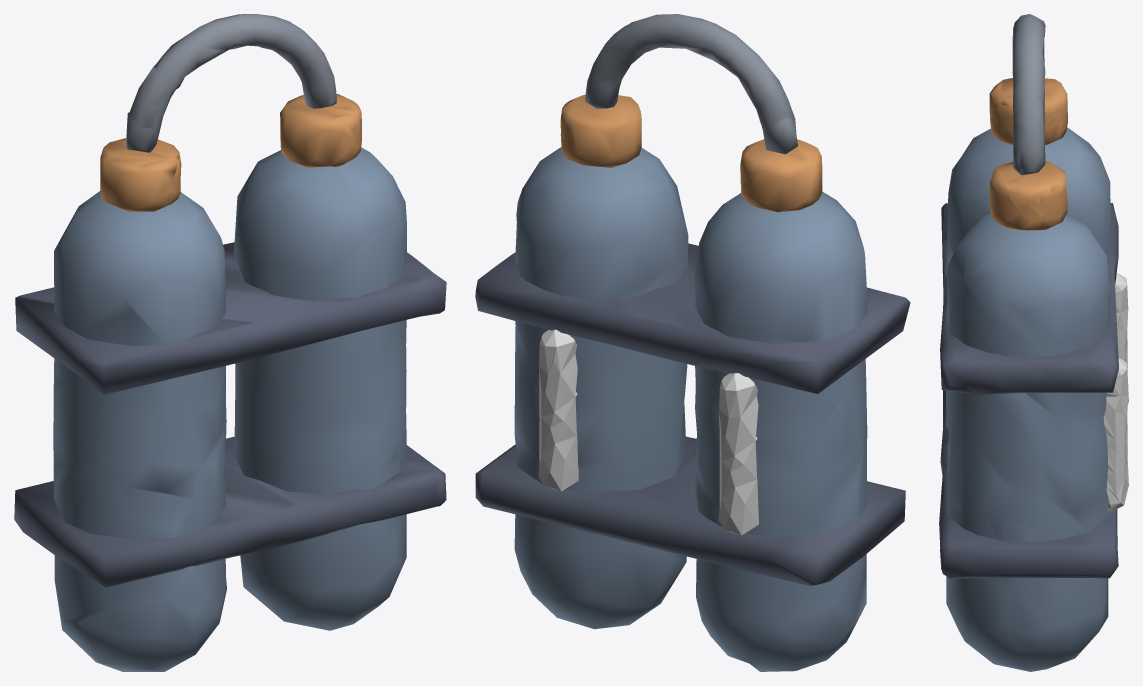
The model's file is gear_reservoir.glb.
3 renders of one model, left to right at view 1: azimuth 30°, elevation 25°; view 2: azimuth 150°, elevation 25°; view 3: azimuth 270°, elevation 25°, orthographic. The views are drawn at different scales.
Visible parts, largest first — view 1: torso__reservoir; view 2: torso__reservoir, torso__reservoir_glow; view 3: torso__reservoir, torso__reservoir_glow.
Boxes of the visible parts, <box> form: torso__reservoir: <box>14,14,446,671</box>; torso__reservoir: <box>475,14,910,671</box>; torso__reservoir_glow: <box>538,329,758,535</box>; torso__reservoir: <box>939,14,1118,671</box>; torso__reservoir_glow: <box>1103,272,1128,511</box>.
Bounding box in the file's own units: 0.2164 × 0.3717 × 0.1069.
